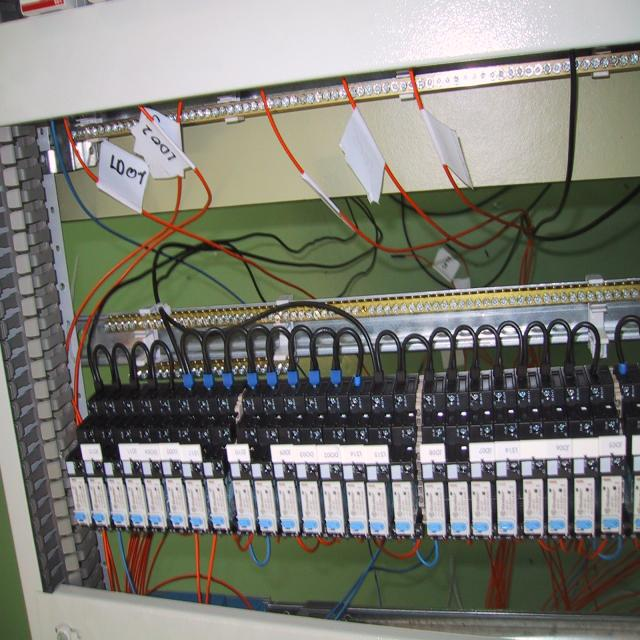Relais: (573, 476, 596, 535), (423, 481, 447, 536), (601, 475, 623, 535), (470, 480, 493, 537), (206, 478, 231, 530), (322, 480, 346, 534), (522, 478, 544, 535), (165, 478, 190, 528), (233, 480, 257, 532), (299, 480, 323, 532), (345, 482, 368, 536), (392, 481, 415, 535), (496, 479, 518, 535), (185, 479, 209, 530), (366, 482, 389, 535), (448, 481, 470, 536), (144, 478, 168, 528), (547, 478, 568, 535), (277, 481, 300, 533), (255, 481, 277, 533), (125, 478, 148, 527), (70, 477, 92, 527), (107, 477, 129, 527), (88, 478, 109, 525), (636, 476, 640, 532)
